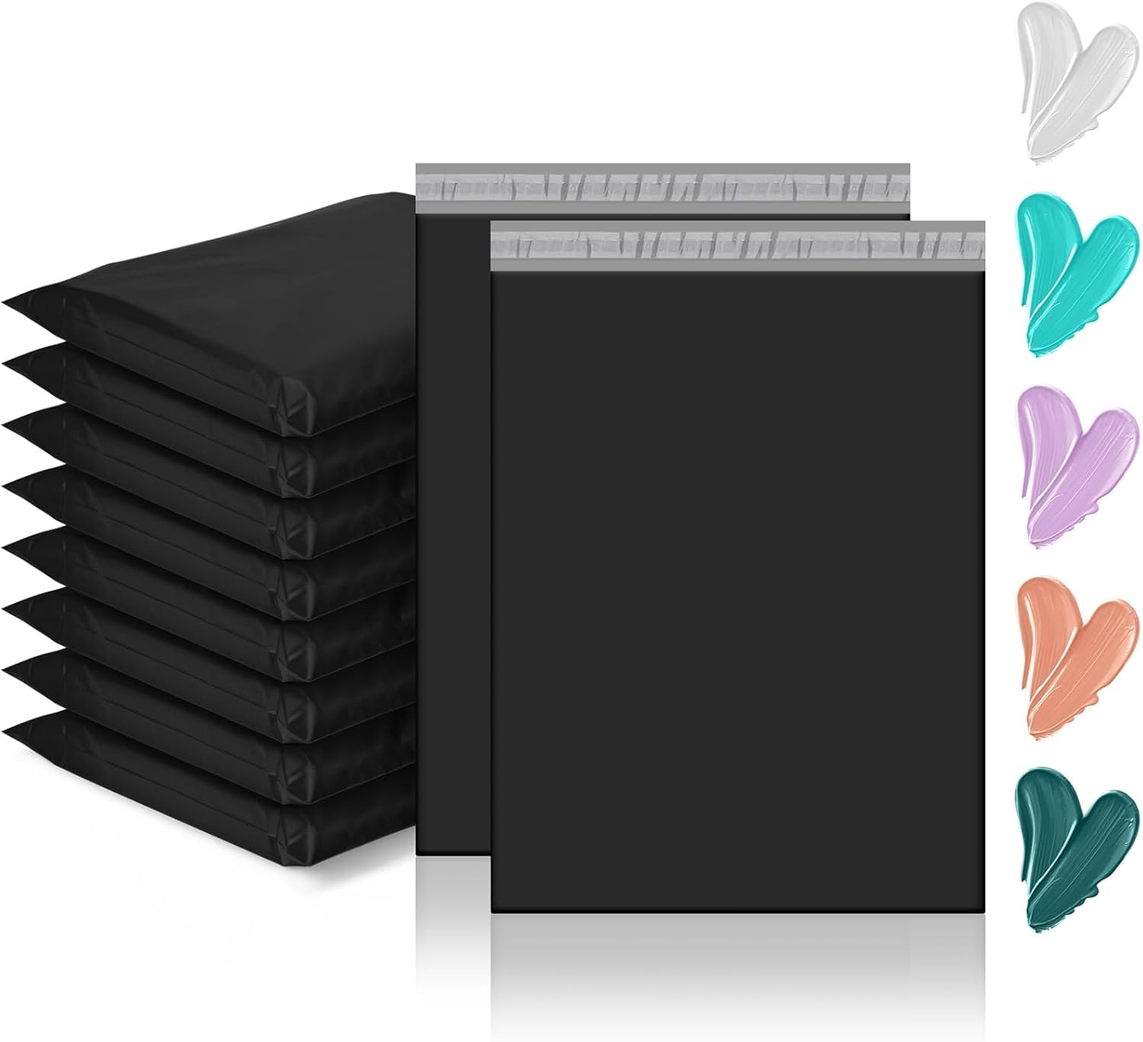塑料袋: (416, 164, 985, 913), (6, 194, 414, 866)
